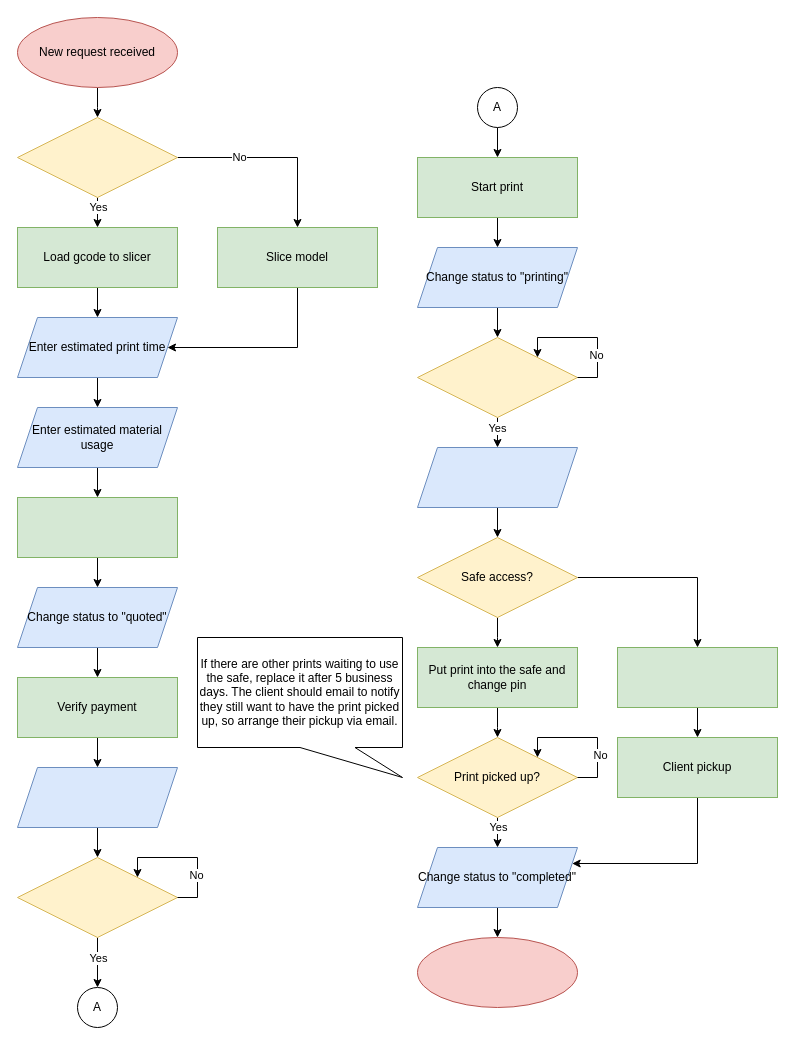
Image size: 795x1045. Some labels were removed from this diagram. The shapes that lost their labels are listed below. From the top down, each one's centre as x and y in pixels, then its label:
pixel 97 157: Gcode?
pixel 497 377: Print (successfully) done
pixel 497 477: Change status to "awaiting pickup"
pixel 97 527: Calculate price (automated)
pixel 697 677: Arrange pickup (email)
pixel 97 797: Change status to "ready to print"
pixel 97 897: Printer available
pixel 497 972: Request completed
